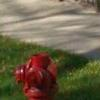Hydrant: (9, 36, 61, 100)
